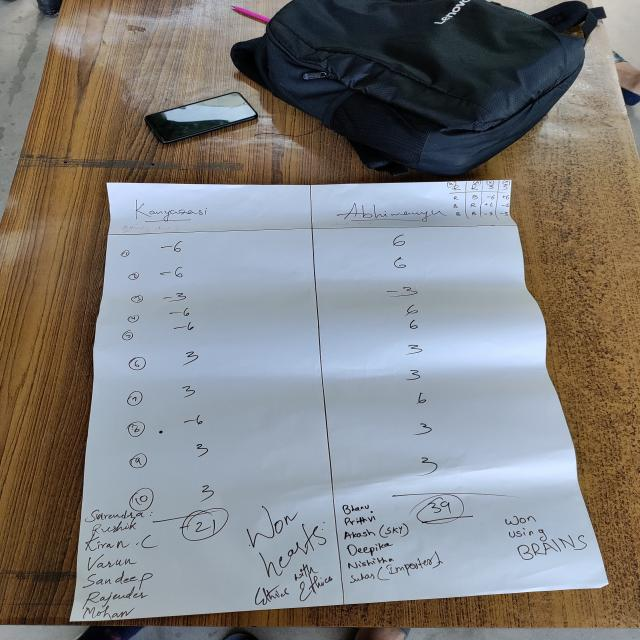paper: (108, 179, 563, 594)
plastic: (130, 93, 272, 150)
